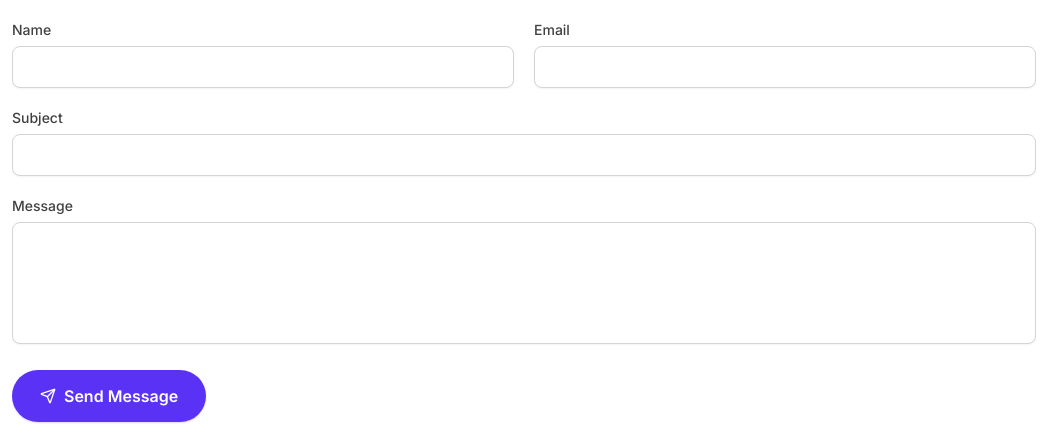
Scenario: ContactForm › submits successfully with valid data and shows the success state
Type "Jane Doe" into the field labelled "Name". click: (263, 67)
box: [12,46,514,88]
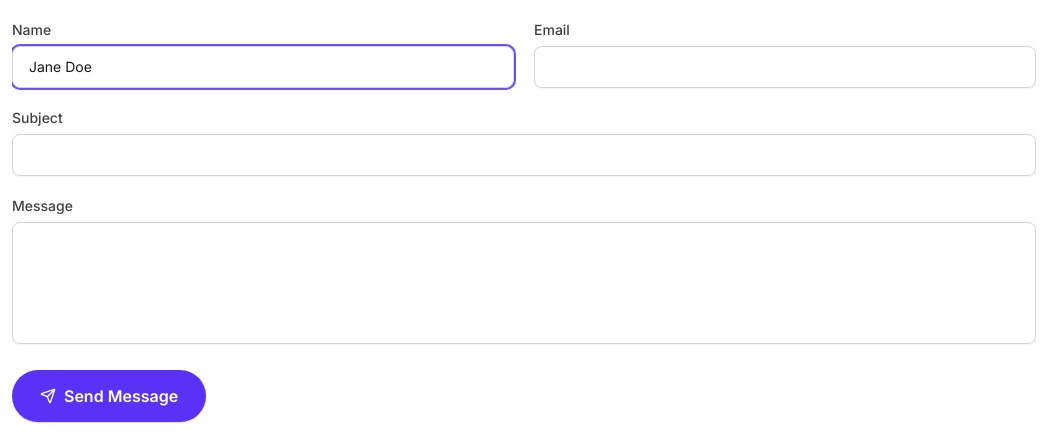
Type "jane@example.com" into the field labelled "Email". click: (785, 67)
box: [534,46,1036,88]
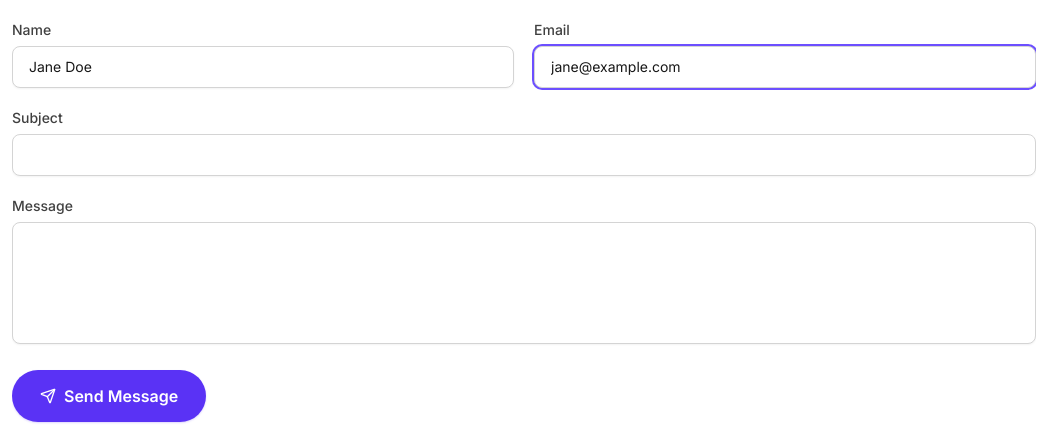
Type "Hello there" into the field labelled "Subject". click: (524, 155)
box: [12,134,1036,176]
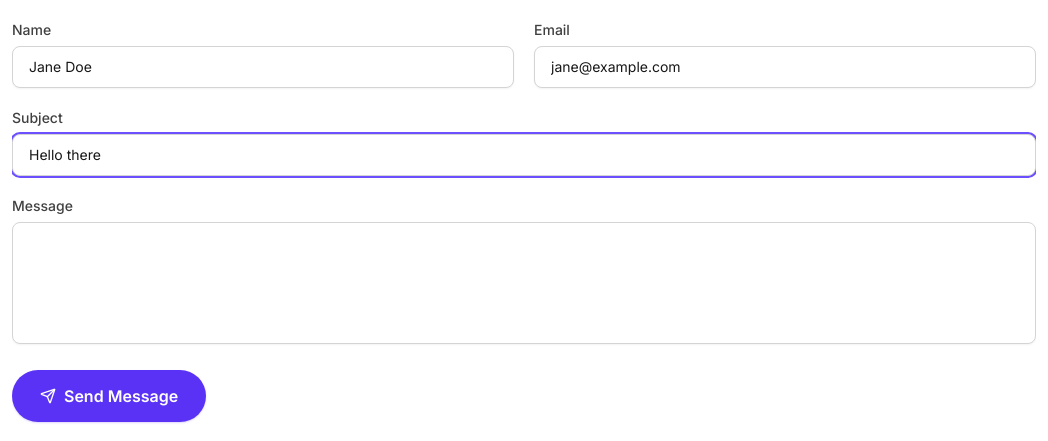
Type "This message is long enough to pass validation." into the text box labelled "Message". click: (524, 283)
box: [12,222,1036,344]
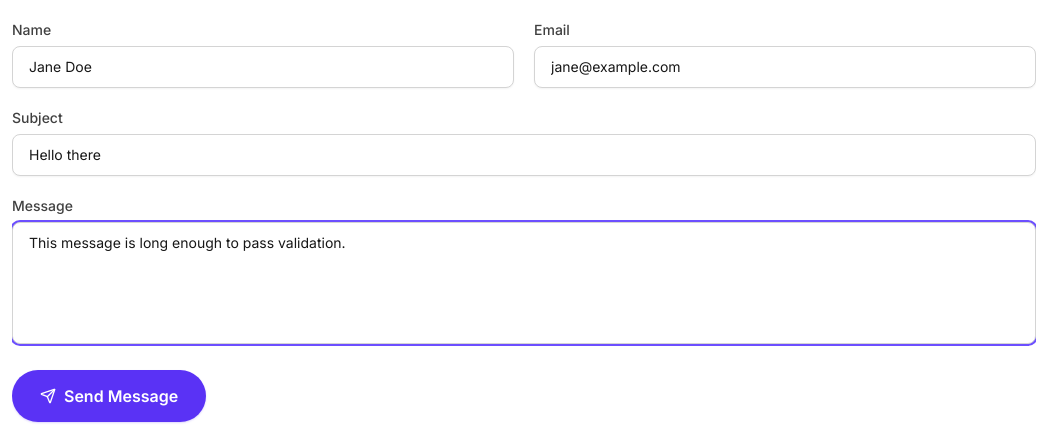
Click the button "Send Message". click: (109, 396)
box: [12,370,206,422]
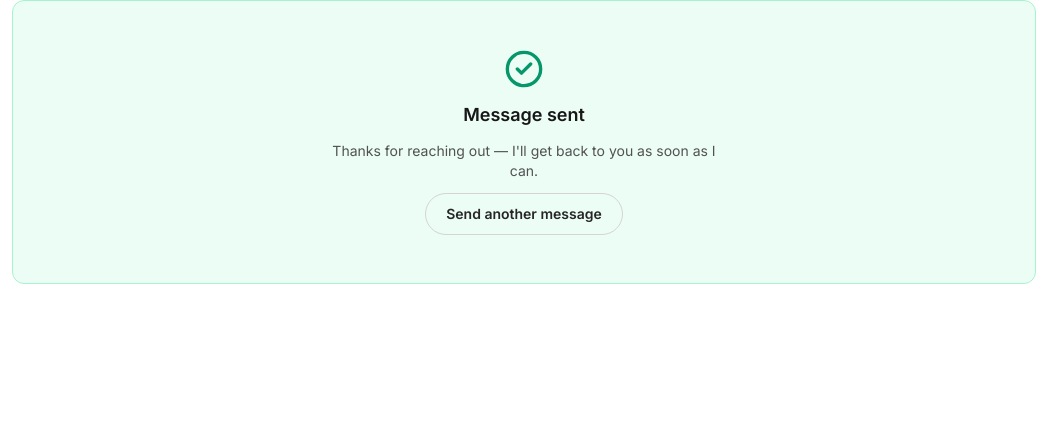
Now the heading "Message sent" is shown, box [463,101,585,129]
